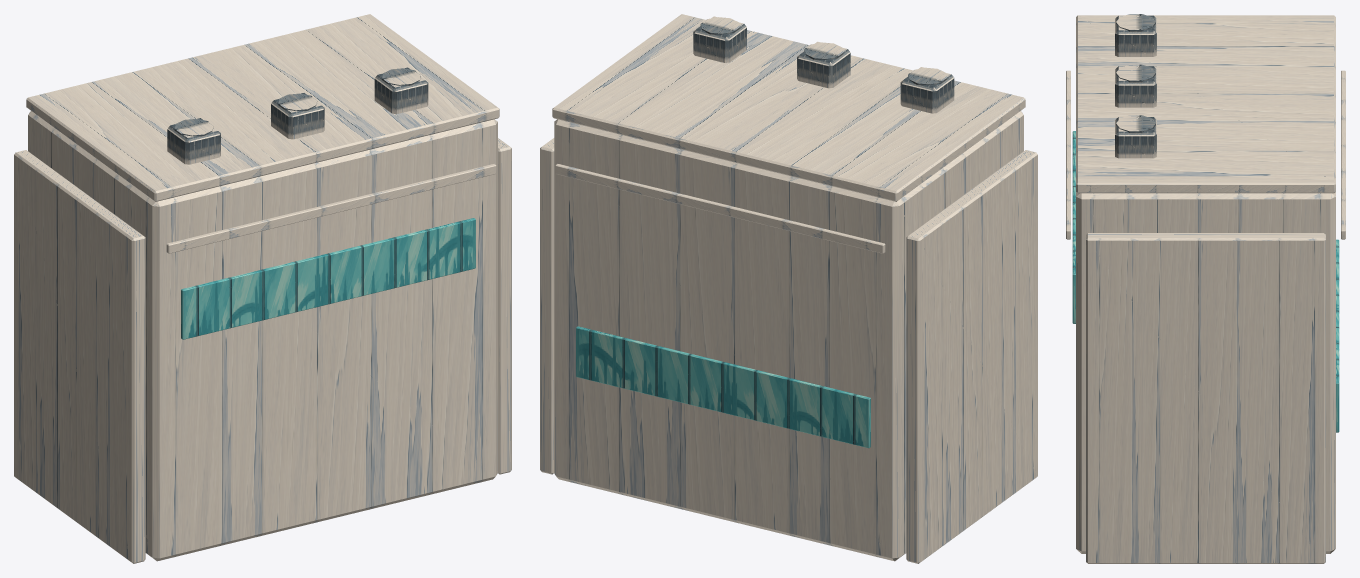
Rendered from roofDeck.glb.
3 views of the same model, side by side, from view 1: azimuth 30°, elevation 25°; view 2: azimuth 150°, elevation 25°; view 3: azimuth 270°, elevation 25° (orthographic).
Visible parts, largest first — view 1: MainBlock, CornerPilaster.X.-1, RoofSlab, WindowBand.1, CornerPilaster.X.1, SideCornice.1, RoofVent.2, RoofVent.0, RoofVent.1; view 2: MainBlock, CornerPilaster.X.-1, RoofSlab, WindowBand.-1, CornerPilaster.X.1, SideCornice.-1, RoofVent.0, RoofVent.2, RoofVent.1; view 3: CornerPilaster.X.1, RoofSlab, MainBlock, RoofVent.2, RoofVent.1, RoofVent.0, SideCornice.1, SideCornice.-1, WindowBand.-1, WindowBand.1, RoofVent.1.Cap, RoofVent.2.Cap (+1 smaller).
Part boxes in pixels (x1,y1,x2,y2): MainBlock: (28, 111, 497, 561); CornerPilaster.X.-1: (14, 150, 145, 563); RoofSlab: (26, 14, 499, 201); WindowBand.1: (181, 218, 475, 339); CornerPilaster.X.1: (498, 138, 511, 474); SideCornice.1: (166, 164, 496, 253); RoofVent.2: (374, 67, 428, 113); RoofVent.0: (167, 118, 220, 164); RoofVent.1: (271, 93, 324, 139); MainBlock: (554, 111, 1023, 561); CornerPilaster.X.-1: (906, 150, 1037, 563); RoofSlab: (552, 14, 1025, 201); WindowBand.-1: (576, 326, 870, 448); CornerPilaster.X.1: (540, 138, 554, 474); SideCornice.-1: (555, 164, 885, 253); RoofVent.0: (900, 67, 954, 113); RoofVent.2: (693, 16, 746, 62); RoofVent.1: (797, 41, 850, 88); CornerPilaster.X.1: (1086, 233, 1325, 563); RoofSlab: (1076, 15, 1335, 193); MainBlock: (1076, 192, 1335, 553); RoofVent.2: (1115, 117, 1156, 158); RoofVent.1: (1115, 66, 1156, 107); RoofVent.0: (1115, 15, 1156, 56); SideCornice.1: (1066, 70, 1070, 239); SideCornice.-1: (1341, 70, 1345, 239); WindowBand.-1: (1336, 239, 1339, 432); WindowBand.1: (1072, 131, 1075, 323); RoofVent.1.Cap: (1116, 64, 1155, 82); RoofVent.2.Cap: (1116, 115, 1155, 133).
Size of what is drawn, in the model's own units: 44 by 44.1 by 28.
5 materials, 5 textured.
